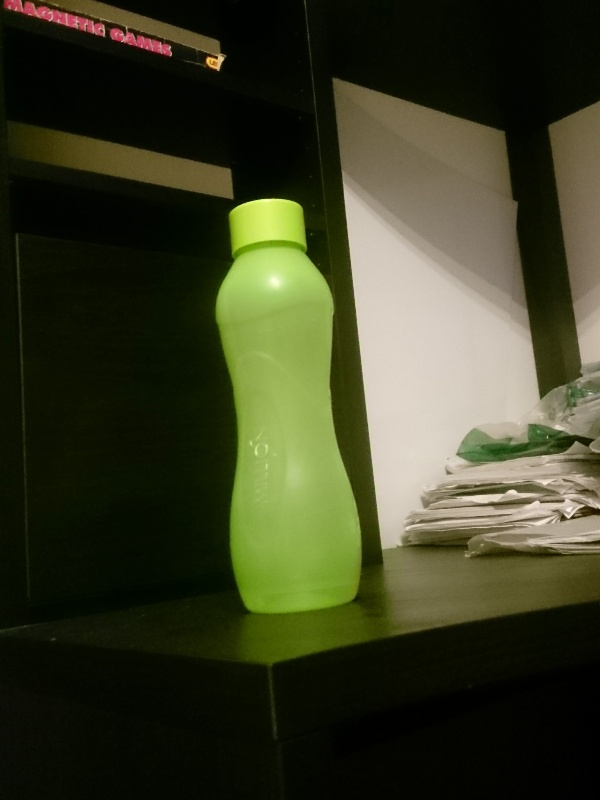my bottle: (214, 199, 363, 618)
